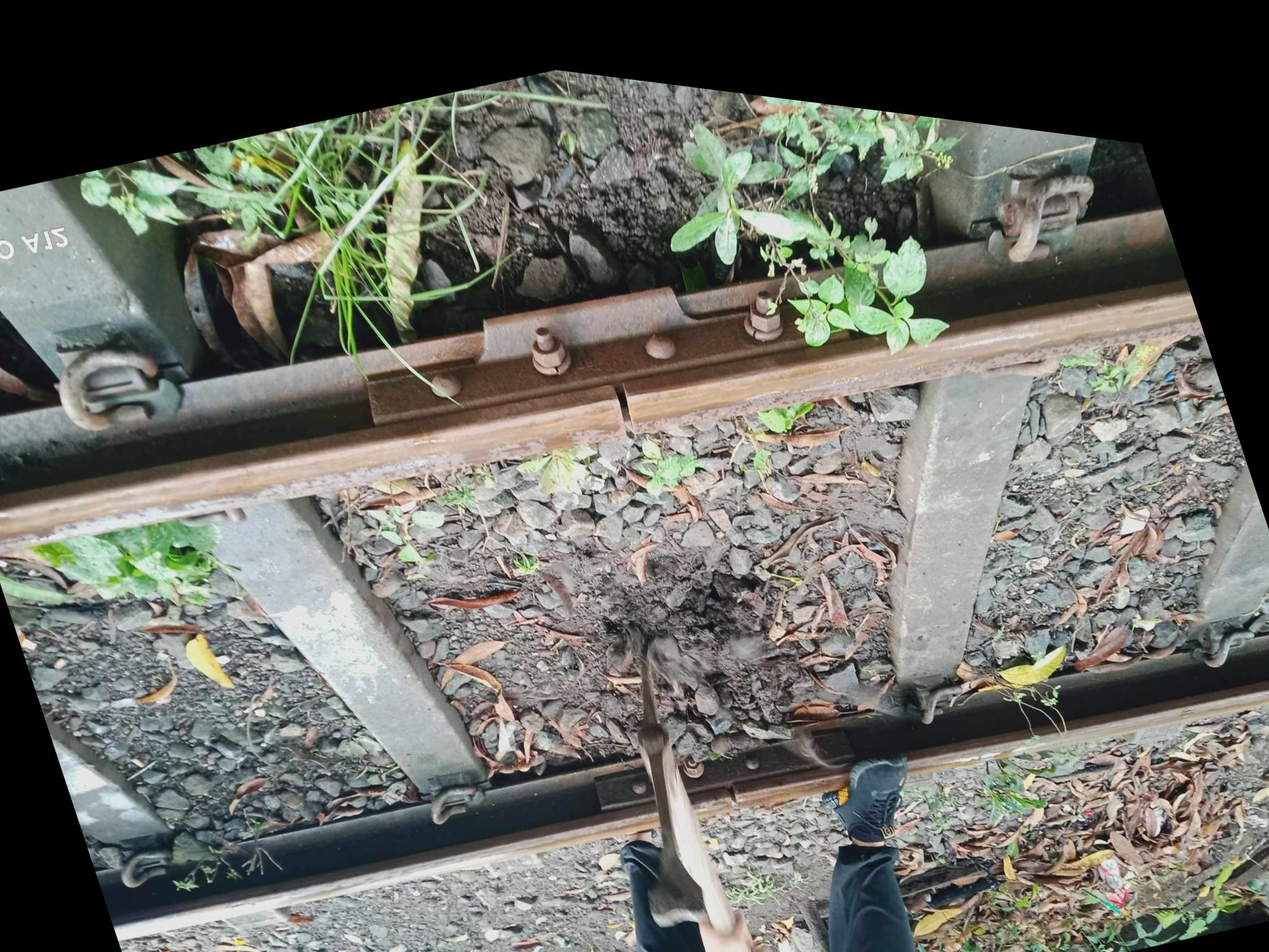person: (556, 313, 695, 462), (697, 736, 776, 819)
